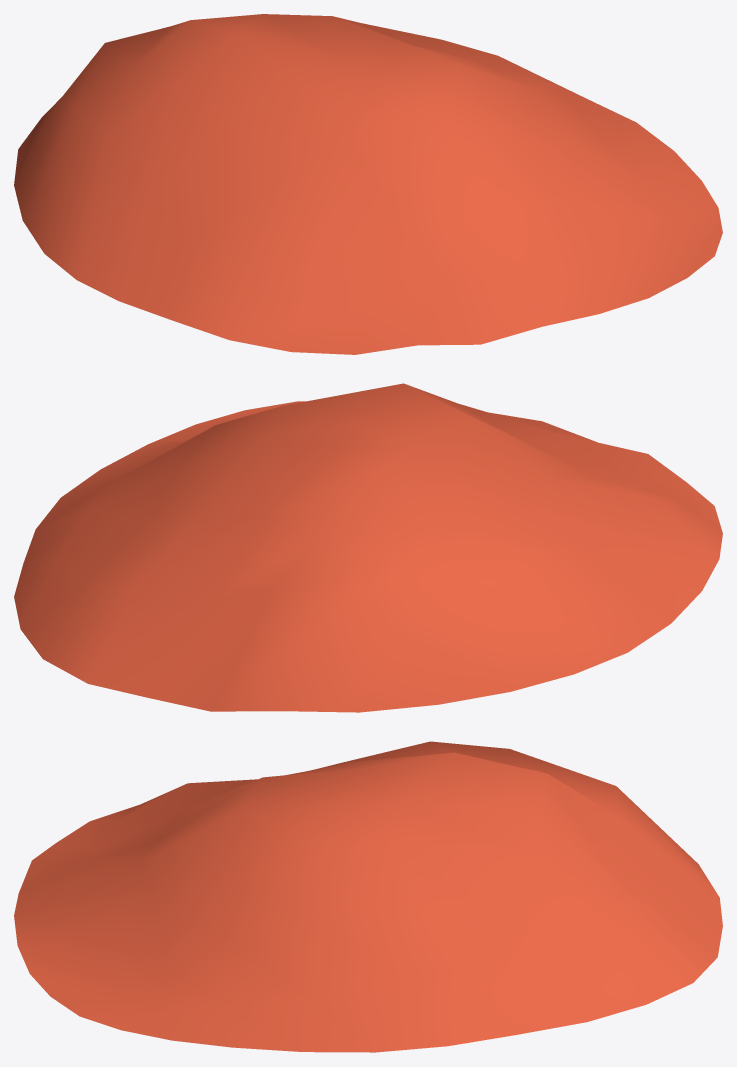
File: SandHill2_Bogdan.fbx
3 views of the same model, one above another, from view 1: azimuth 30°, elevation 25°; view 2: azimuth 150°, elevation 25°; view 3: azimuth 270°, elevation 25° (orthographic). The views are drawn at different scales.
Visible parts, largest first — view 1: SandHill2; view 2: SandHill2; view 3: SandHill2.
Boxes of the visible parts, x1,y1,x2,y2 form: SandHill2: [14, 14, 722, 354]; SandHill2: [14, 383, 722, 712]; SandHill2: [14, 741, 722, 1052].
Bounding box in the file's own units: 578 × 138 × 645.
